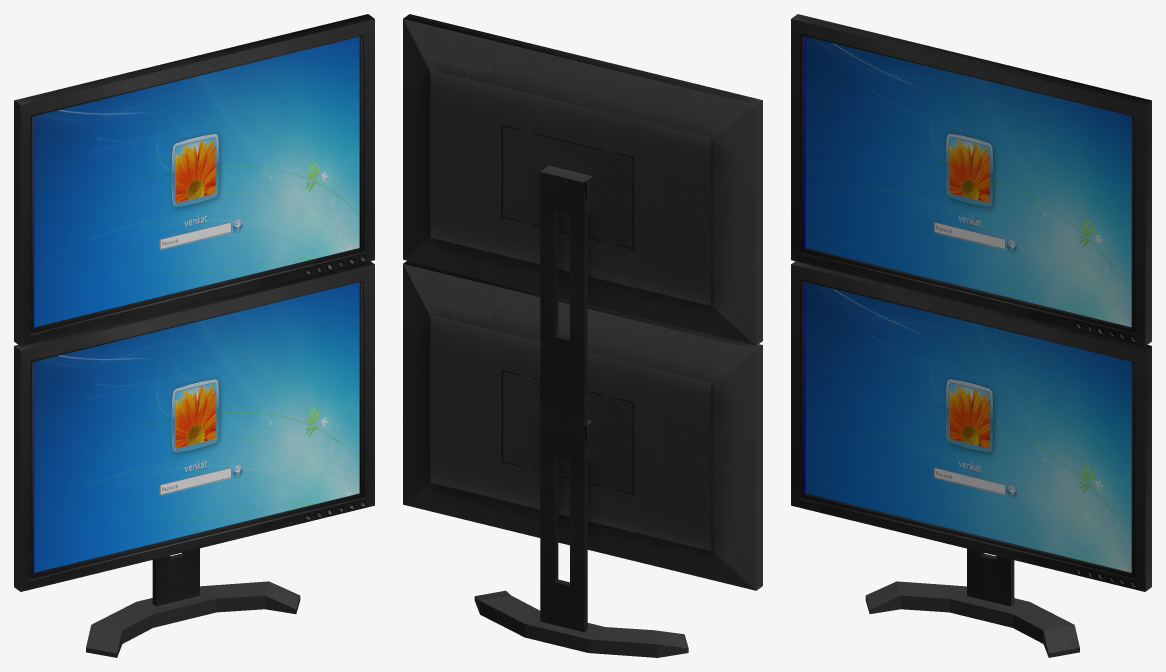
The model's file is Office_ComputerMonitor_1.fbx.
3 renders of one model, left to right at view 1: azimuth 30°, elevation 25°; view 2: azimuth 150°, elevation 25°; view 3: azimuth 330°, elevation 25°, orthographic.
Parts seen in each view (by area): view 1: Office_ComputerMonitor_1_LowerScreen, Office_ComputerMonitor_1_UpperScreen, Office_ComputerMonitor_1_Lower, Office_ComputerMonitor_1_Upper, Office_ComputerMonitor_1_Base; view 2: Office_ComputerMonitor_1_Upper, Office_ComputerMonitor_1_Lower, Office_ComputerMonitor_1_Base; view 3: Office_ComputerMonitor_1_LowerScreen, Office_ComputerMonitor_1_UpperScreen, Office_ComputerMonitor_1_Lower, Office_ComputerMonitor_1_Upper, Office_ComputerMonitor_1_Base.
Boxes of the visible parts, box(x1,y1,x2,y2) form: Office_ComputerMonitor_1_LowerScreen: box(34, 282, 359, 572); Office_ComputerMonitor_1_UpperScreen: box(34, 36, 359, 327); Office_ComputerMonitor_1_Lower: box(14, 261, 374, 606); Office_ComputerMonitor_1_Upper: box(14, 14, 374, 346); Office_ComputerMonitor_1_Base: box(86, 581, 300, 657); Office_ComputerMonitor_1_Upper: box(403, 14, 762, 427); Office_ComputerMonitor_1_Lower: box(403, 260, 762, 632); Office_ComputerMonitor_1_Base: box(474, 590, 688, 657); Office_ComputerMonitor_1_LowerScreen: box(806, 282, 1131, 572); Office_ComputerMonitor_1_UpperScreen: box(806, 36, 1131, 327); Office_ComputerMonitor_1_Lower: box(791, 261, 1151, 606); Office_ComputerMonitor_1_Upper: box(791, 14, 1151, 346); Office_ComputerMonitor_1_Base: box(865, 581, 1079, 657).
Bounding box in the file's own units: 81.38 × 125 × 15.43.
